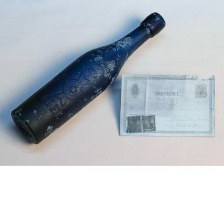bottle: (8, 11, 174, 154)
